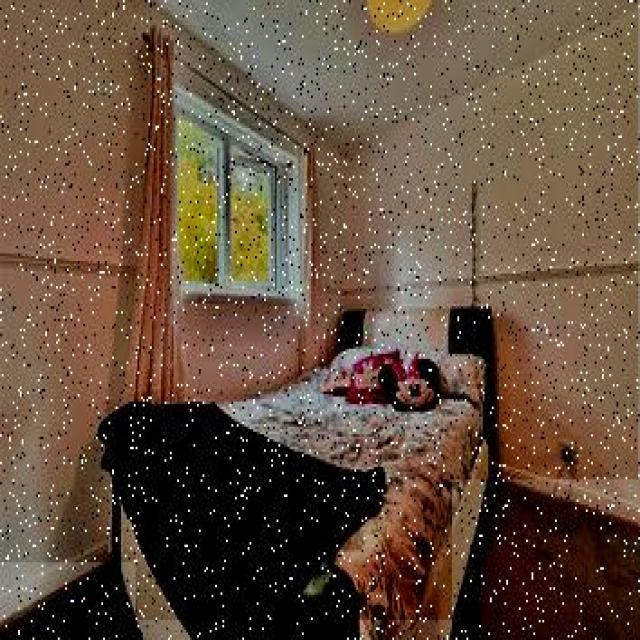Wall: (1, 0, 640, 620), (158, 1, 640, 146), (453, 481, 638, 637), (186, 303, 300, 399), (0, 562, 136, 640)
